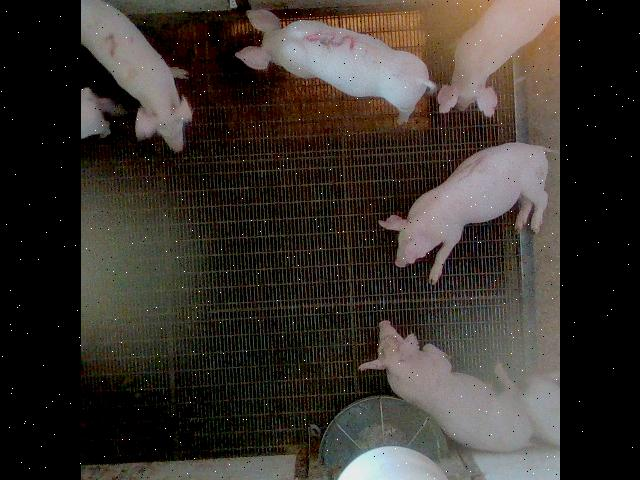pig-1: (379, 142, 546, 284)
pig-3: (235, 10, 434, 122)
